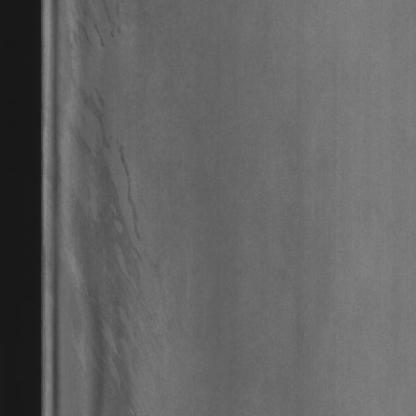water_spot: (60, 4, 155, 409)
